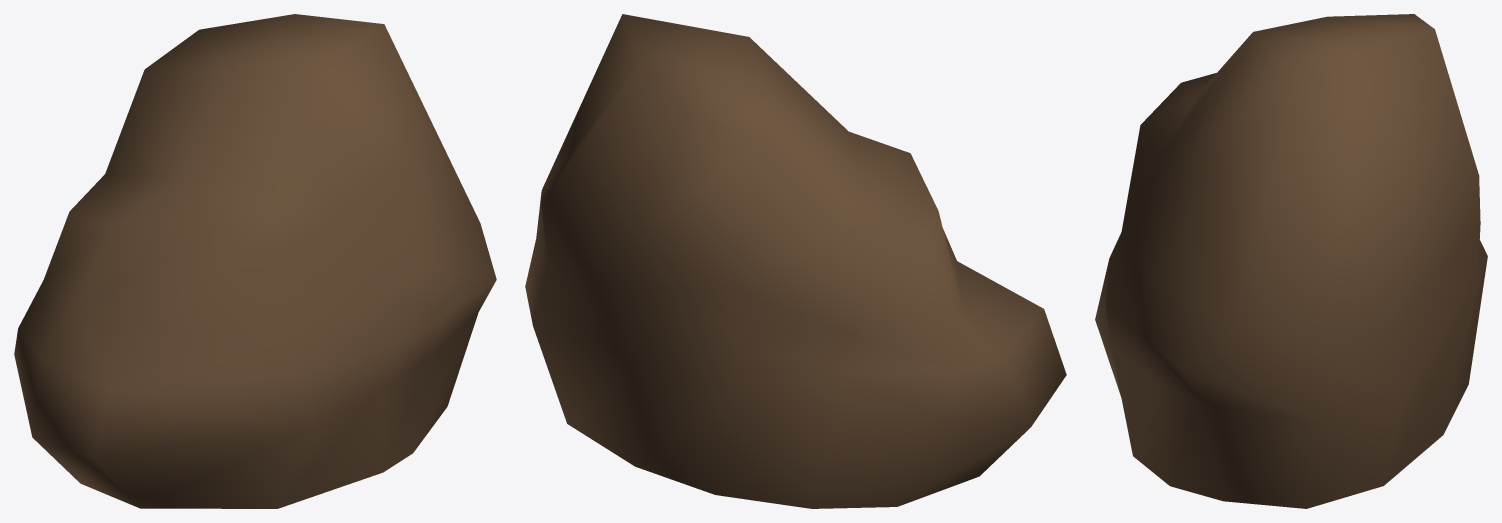
File: shituo4.FBX
3 renders of one model, left to right at view 1: azimuth 30°, elevation 25°; view 2: azimuth 150°, elevation 25°; view 3: azimuth 270°, elevation 25°, orthographic. The views are drawn at different scales.
Visible parts, largest first — view 1: 对象011; view 2: 对象011; view 3: 对象011.
Boxes of the visible parts, x1,y1,x2,y2 form: 对象011: (14,14,496,508); 对象011: (525,14,1066,508); 对象011: (1095,14,1487,508).
Size of the model in its own units: 2.3 by 1.87 by 1.54.
